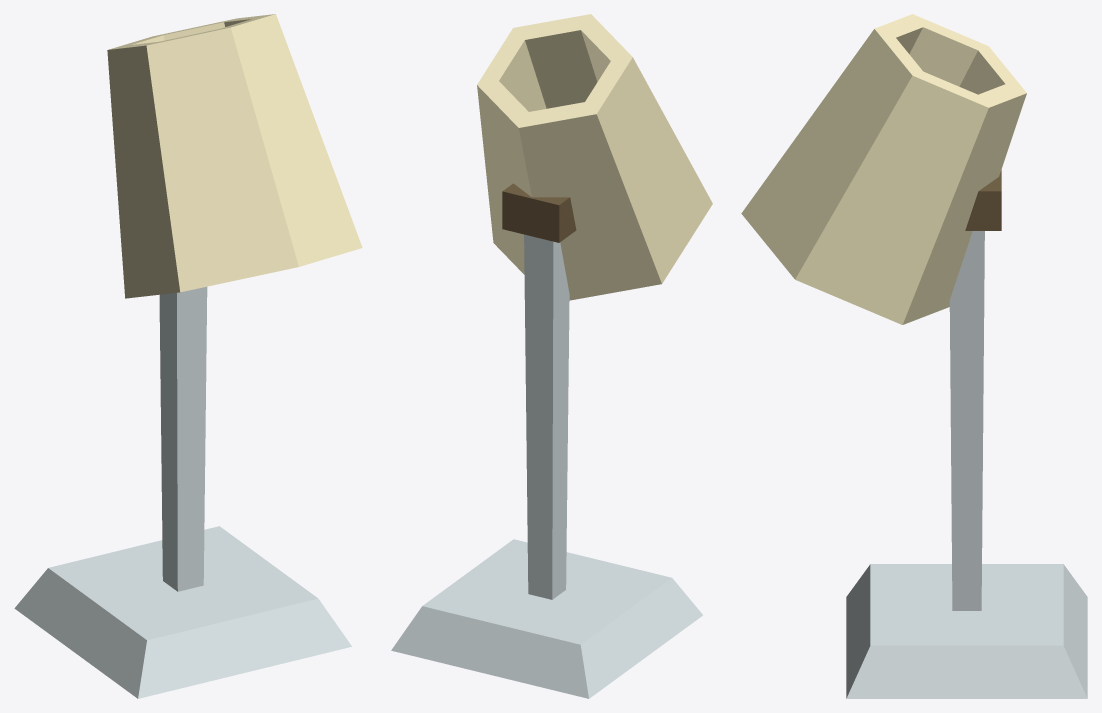
3 renders of one model, left to right at view 1: azimuth 30°, elevation 25°; view 2: azimuth 150°, elevation 25°; view 3: azimuth 270°, elevation 25°, orthographic. The views are drawn at different scales.
Visible parts, largest first — view 1: lamp-head-shell, lamp-base-and-post; view 2: lamp-head-shell, lamp-base-and-post, lamp-hinge-bracket; view 3: lamp-head-shell, lamp-base-and-post, lamp-hinge-bracket.
Boxes of the visible parts, x1=… form: lamp-head-shell: x1=107, y1=14, x2=362, y2=298; lamp-base-and-post: x1=14, y1=286, x2=351, y2=698; lamp-head-shell: x1=477, y1=14, x2=712, y2=300; lamp-base-and-post: x1=391, y1=234, x2=702, y2=698; lamp-hinge-bracket: x1=502, y1=183, x2=576, y2=242; lamp-head-shell: x1=741, y1=14, x2=1026, y2=324; lamp-base-and-post: x1=846, y1=231, x2=1087, y2=698; lamp-hinge-bracket: x1=965, y1=170, x2=1001, y2=230.
Bounding box in the file's own units: 0.1536 × 0.4349 × 0.2205.
